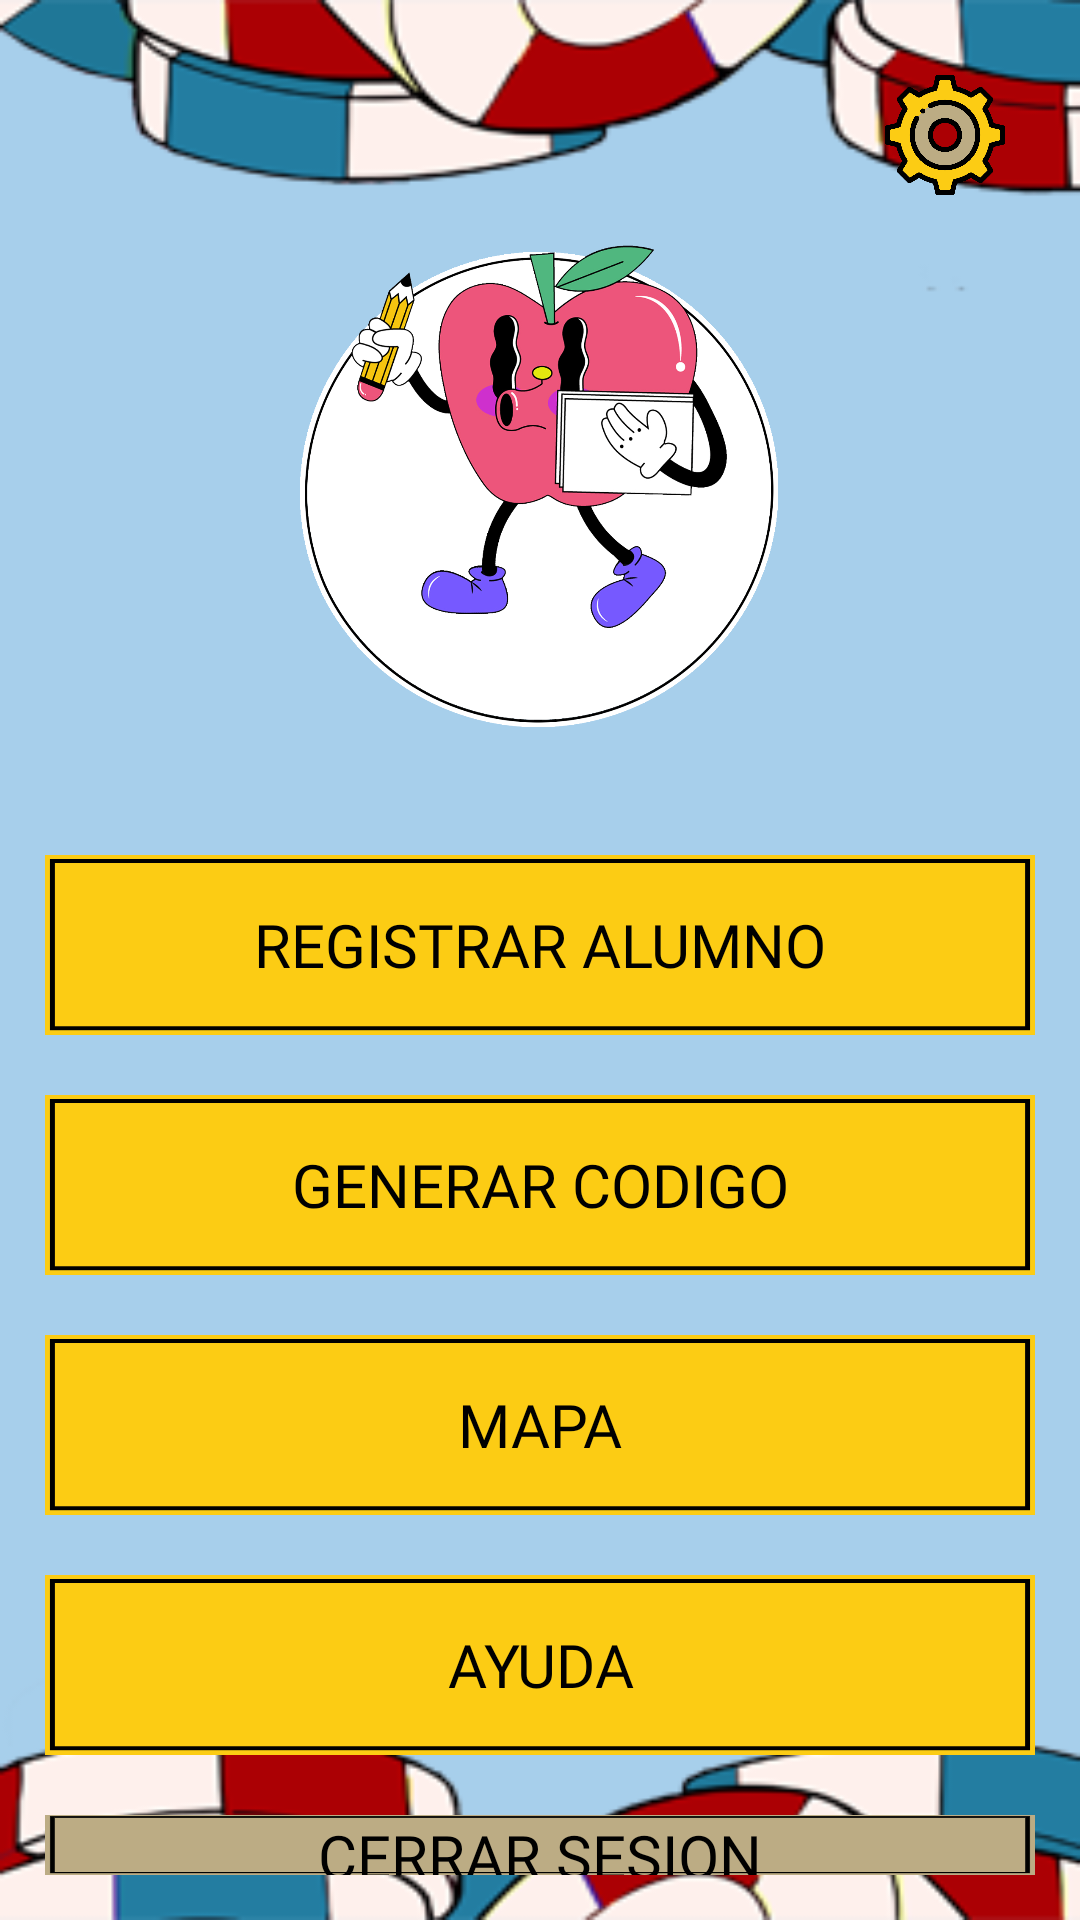

Icon click points for this 1080px×1920px phone screenshot, format (x=x, y=y):
settings icon: (x=945, y=135)
